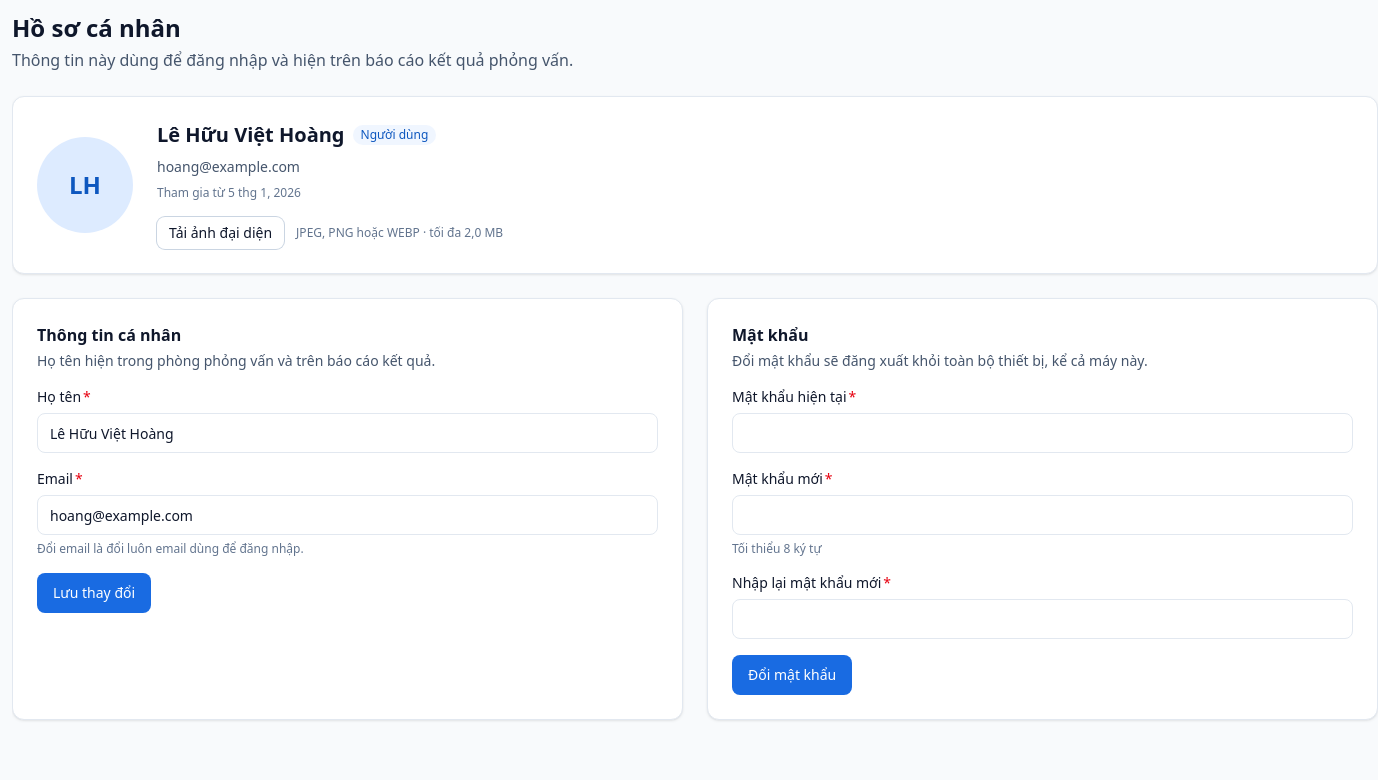
Scenario: flags a wrong current password instead of ending the session
Expected: the heading "Lê Hữu Việt Hoàng" is shown, [157,121,344,149]
Type "sai-mat-khau" into the password field labelled "Mật khẩu hiện tại*".
click(1042, 433); type("sai-mat-khau")  # box [732,413,1353,453]
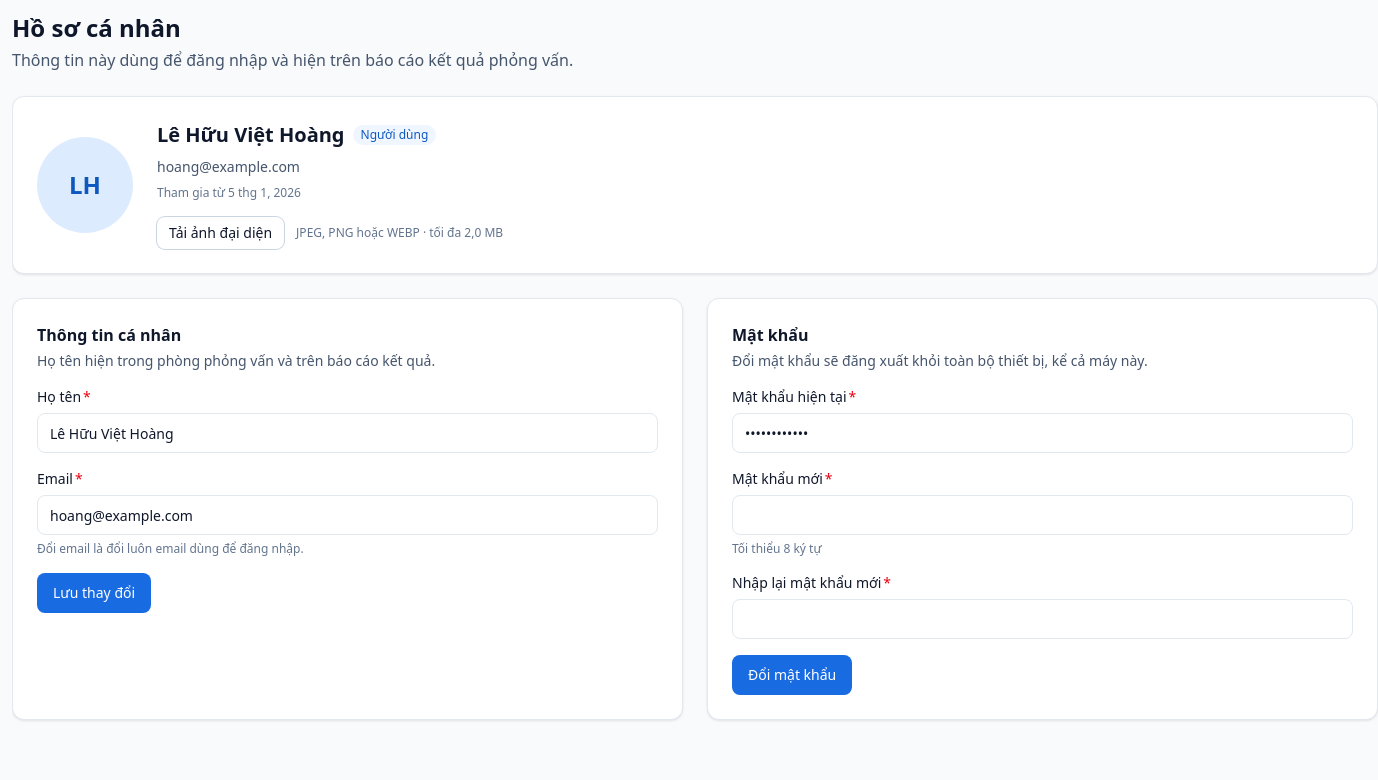
Type "matkhaumoi123" into the password field labelled "Mật khẩu mới*".
click(1042, 515); type("matkhaumoi123")  # box [732,495,1353,535]
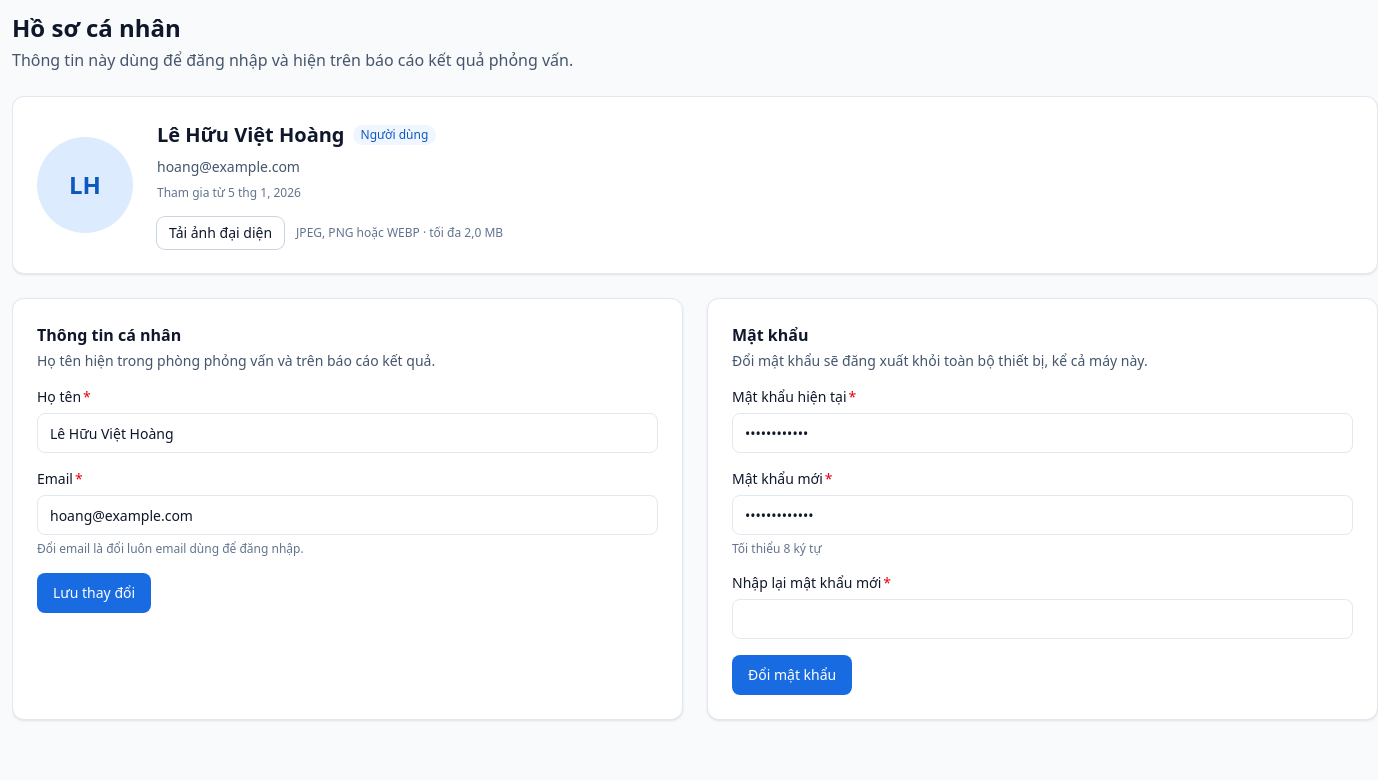
Type "matkhaumoi123" into the password field labelled "Nhập lại mật khẩu mới*".
click(1042, 619); type("matkhaumoi123")  # box [732,599,1353,639]
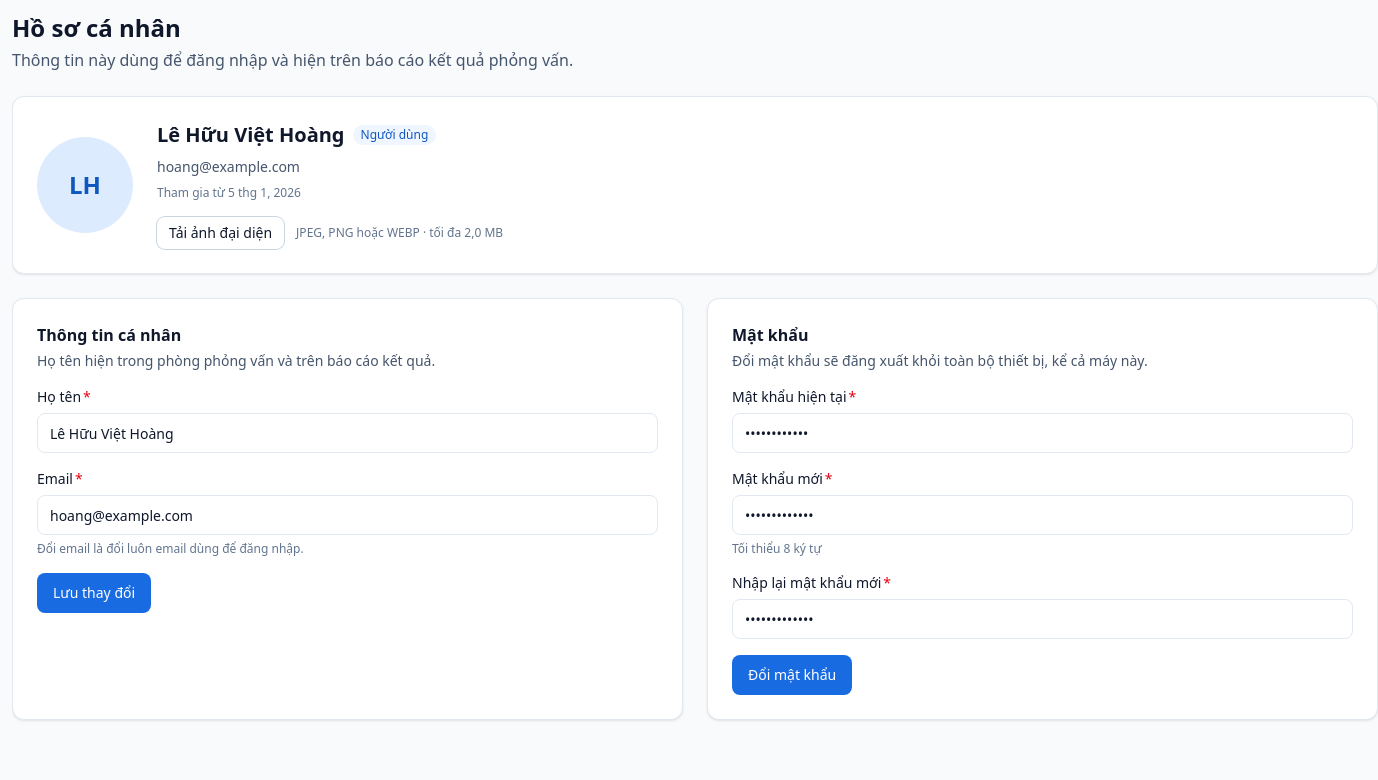
Click the button "Đổi mật khẩu".
click(792, 675)  # box [732,655,852,695]
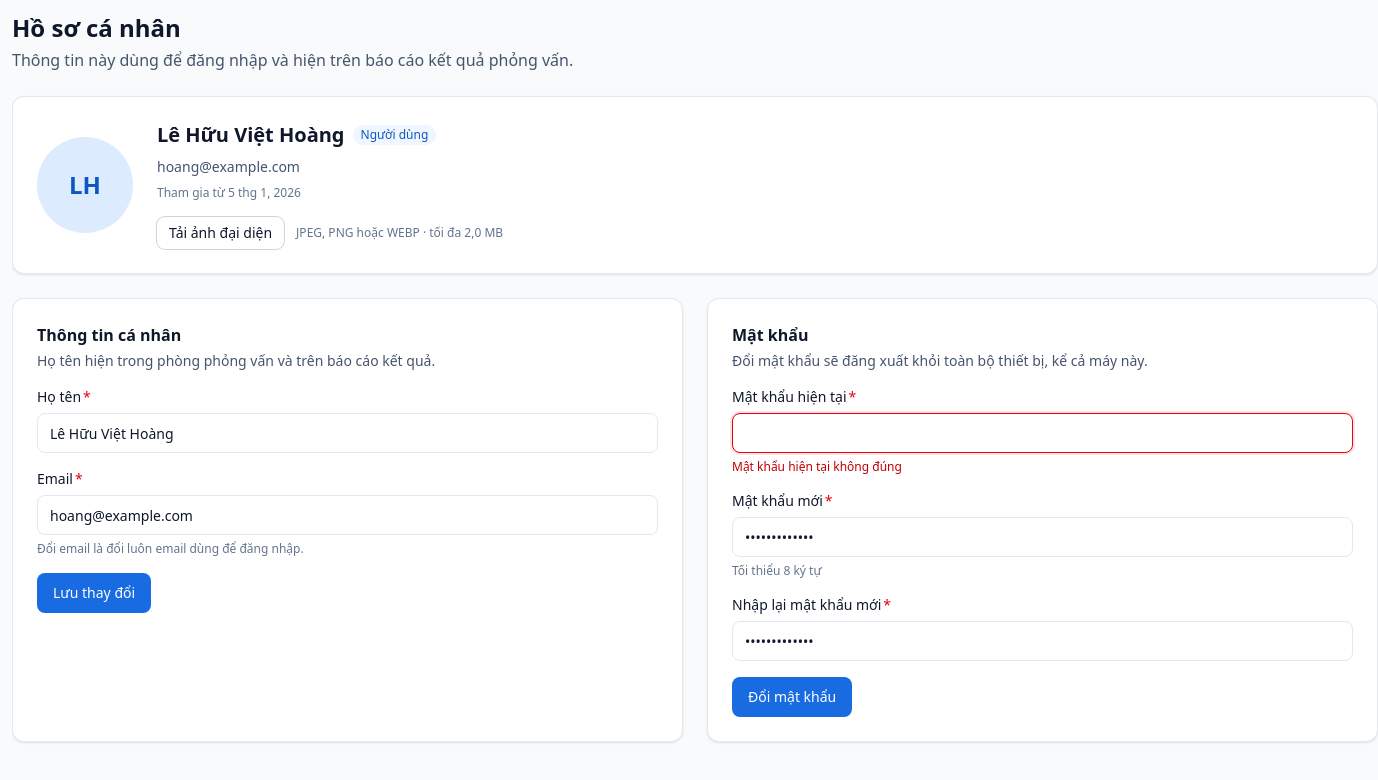
Expected: the message reads "Mật khẩu hiện tại không đúng", [732,458,902,475]
